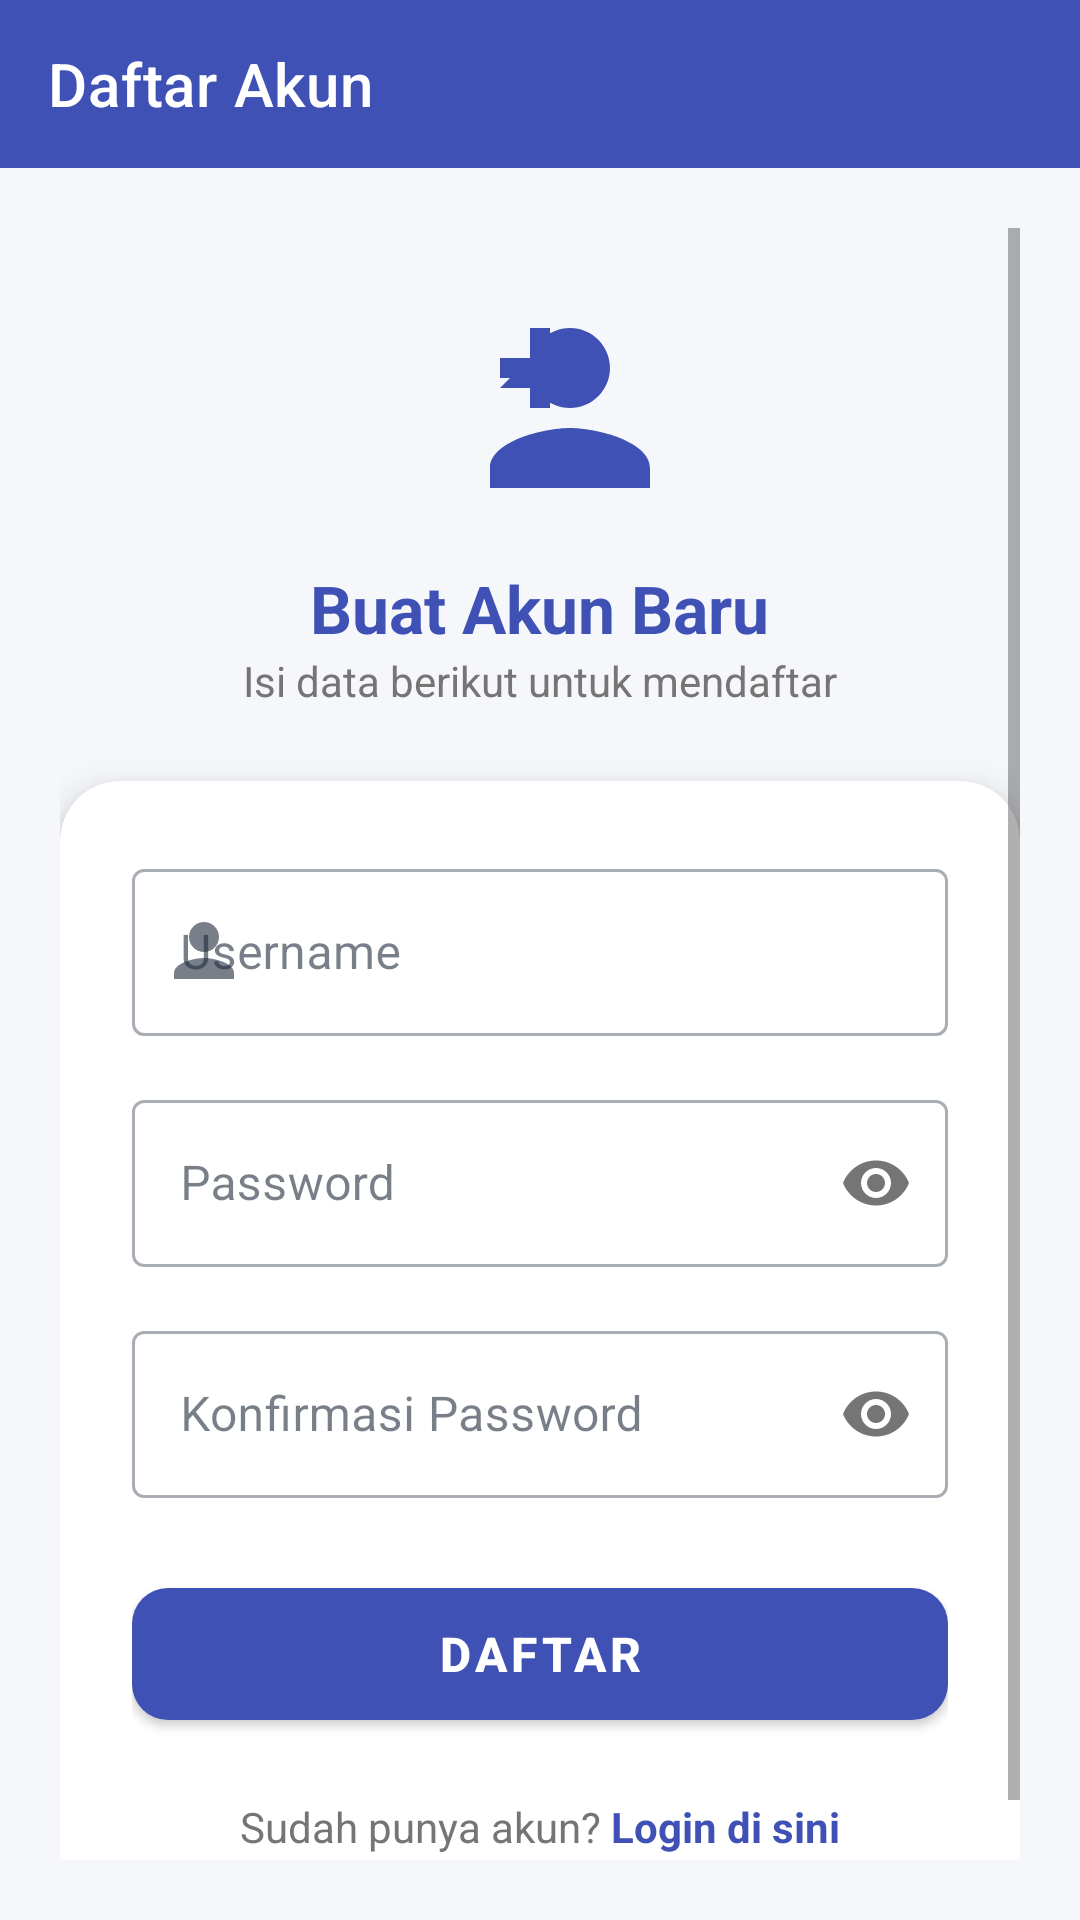

Screen size 1080 x 1920. Icon name, then its box in pixels as (x1, y1, x2, y2):
Register Icon: (490, 328, 650, 488)
